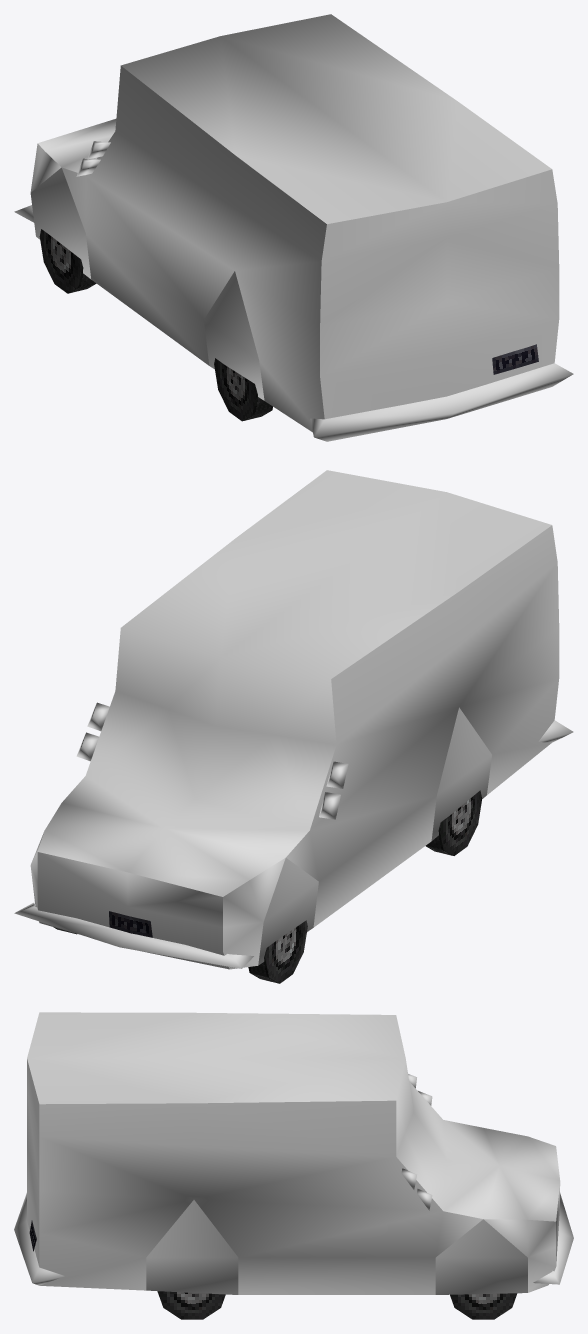
The model's file is CamperVan.fbx.
3 views of the same model, one above another, from view 1: azimuth 30°, elevation 25°; view 2: azimuth 150°, elevation 25°; view 3: azimuth 270°, elevation 25° (orthographic). The views are drawn at different scales.
Visible parts, largest first — view 1: CamperVan, Tire.014, Tire.013, LicensePlate.004; view 2: CamperVan, Tire.013, Tire.014, LicensePlate.004; view 3: CamperVan, Tire.015, Tire.016.
Boxes of the visible parts, x1,y1,x2,y2 form: CamperVan: (14, 14, 573, 441); Tire.014: (214, 358, 272, 421); Tire.013: (39, 229, 96, 293); LicensePlate.004: (492, 344, 538, 374); CamperVan: (14, 470, 573, 969); Tire.013: (248, 920, 307, 983); Tire.014: (426, 790, 481, 855); LicensePlate.004: (109, 911, 152, 937); CamperVan: (14, 1012, 573, 1294); Tire.015: (157, 1291, 225, 1319); Tire.016: (450, 1293, 517, 1319).
Size of the model in its own units: 330 by 315 by 737.
